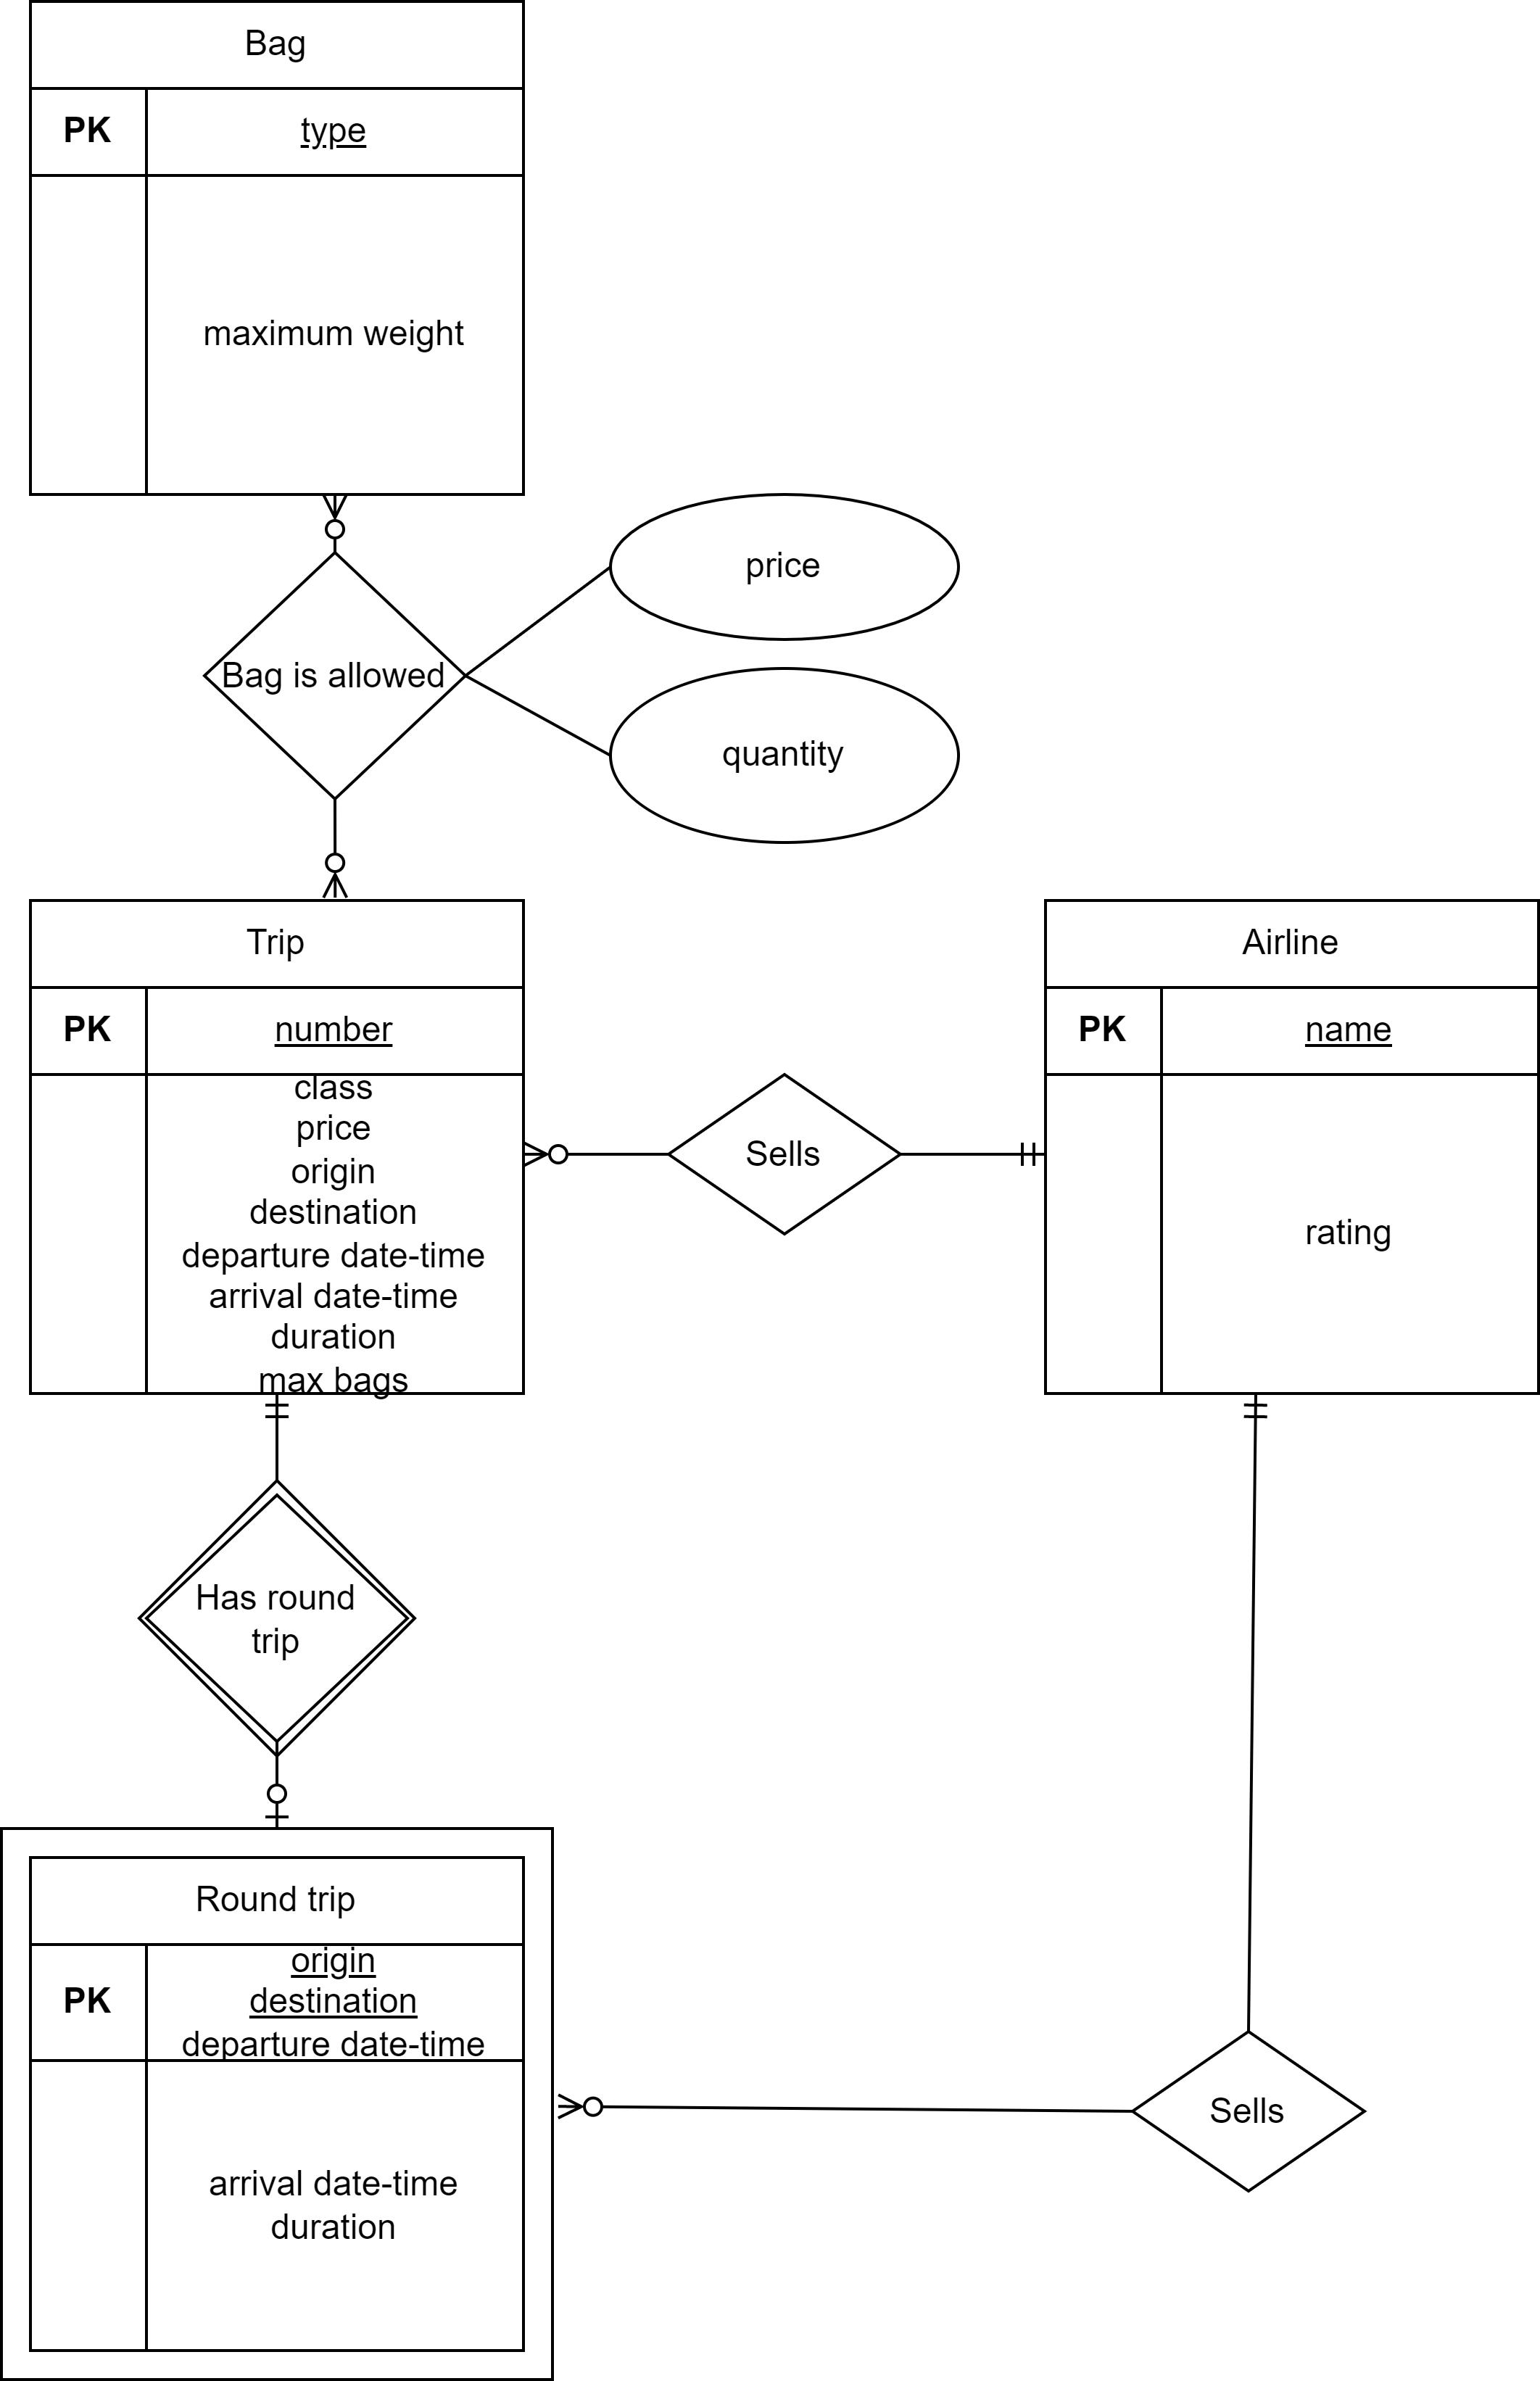attribute: (613, 661, 960, 849), (620, 495, 958, 644)
entity: (33, 0, 533, 507), (1038, 897, 1540, 1400), (31, 895, 528, 1394)
relationship: (207, 559, 471, 805), (675, 1071, 901, 1237), (1139, 2034, 1361, 2190)
weakentity: (0, 1822, 561, 2381)
weakrelationship: (139, 1484, 408, 1749)
